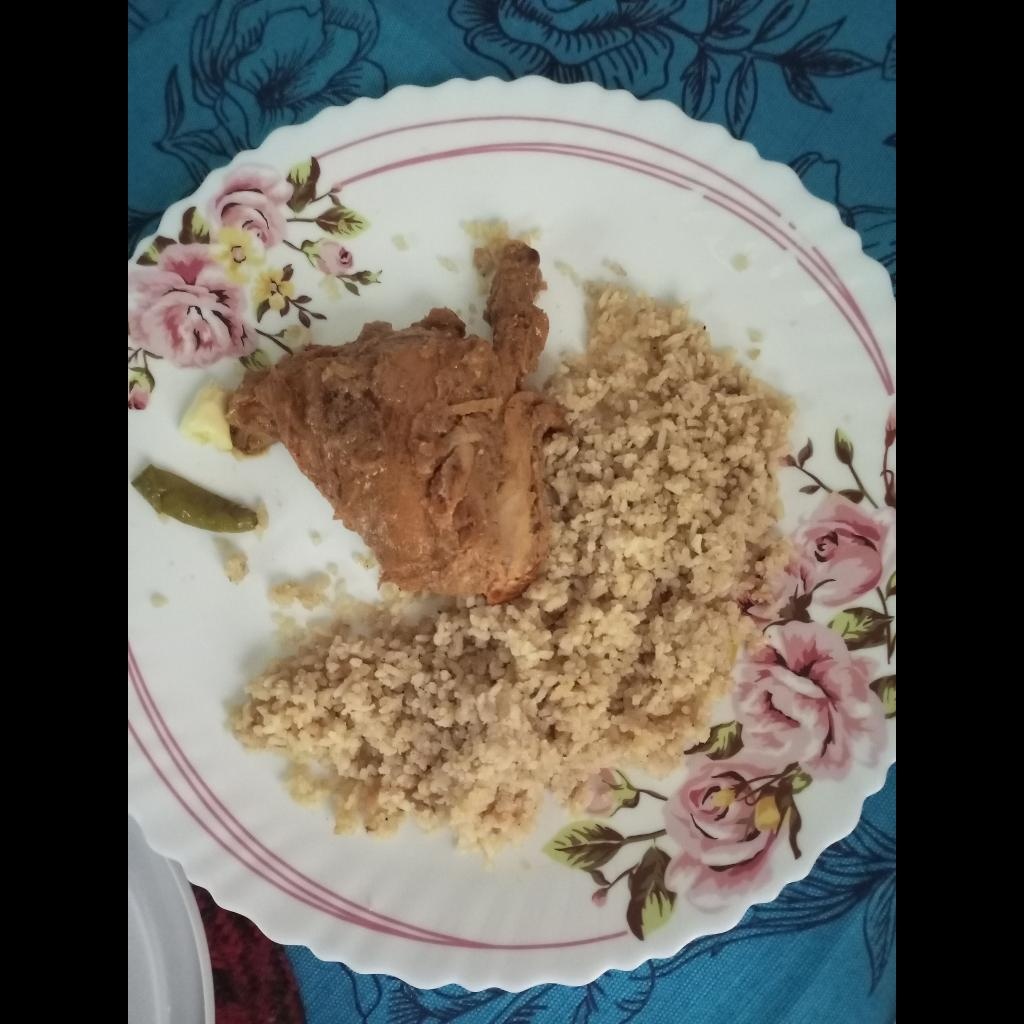chicken: (223, 227, 562, 594)
rice: (221, 279, 796, 868)
